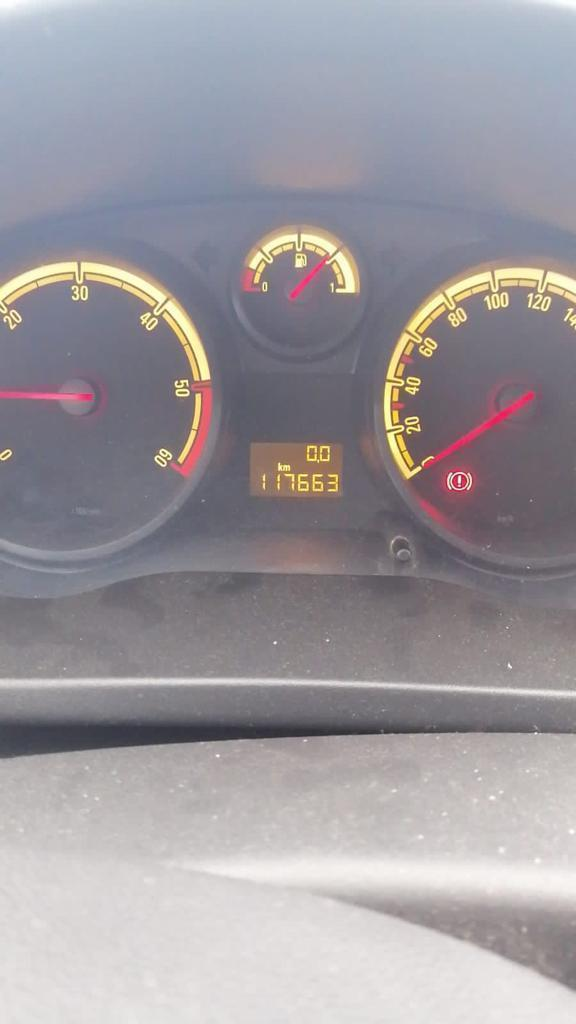,: (316, 458, 319, 463)
0: (318, 445, 330, 461), (306, 444, 317, 461)
1: (276, 473, 281, 491), (261, 473, 265, 491)
3: (326, 473, 338, 492)
6: (312, 473, 324, 492), (297, 473, 309, 491)
7: (283, 473, 295, 491)
X: (282, 464, 290, 471), (277, 462, 283, 471)
odometer: (246, 440, 347, 500)
